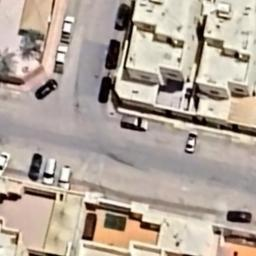SUV: (56, 164, 74, 192), (42, 156, 58, 186)
pickup: (52, 43, 70, 74), (58, 15, 76, 44)
sedan: (33, 77, 60, 101), (103, 37, 122, 71), (113, 3, 133, 31), (98, 76, 114, 104), (28, 152, 42, 182), (225, 210, 254, 224), (185, 128, 198, 156), (0, 150, 12, 179)
van: (118, 112, 150, 132)
